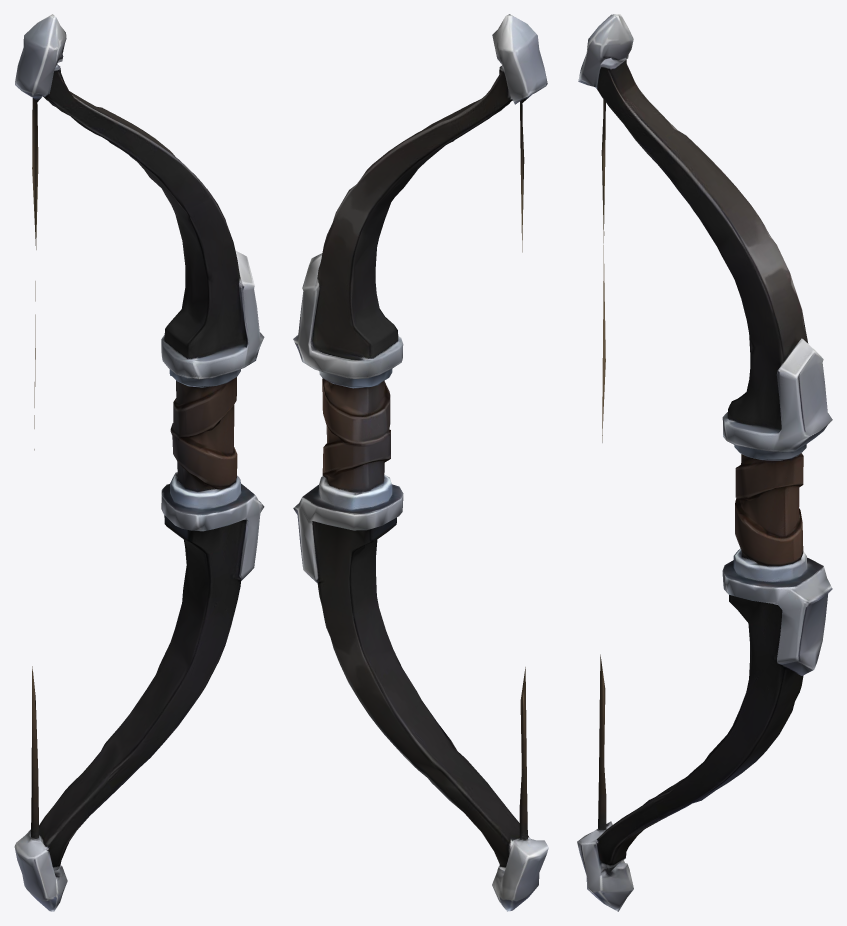
The model's file is w_iron--bow.glb.
3 renders of one model, left to right at view 1: azimuth 30°, elevation 25°; view 2: azimuth 150°, elevation 25°; view 3: azimuth 330°, elevation 25°, orthographic.
Parts seen in each view (by area): view 1: Weapon; view 2: Weapon; view 3: Weapon.
Part boxes in pixels (left/top/right/bottom): Weapon: left=14, top=14, right=264, bottom=911; Weapon: left=293, top=14, right=548, bottom=911; Weapon: left=577, top=14, right=832, bottom=911.
Size of the model in its own units: 0.2743 by 0.9826 by 0.0841.
Materials: 1 (1 with a texture image).
